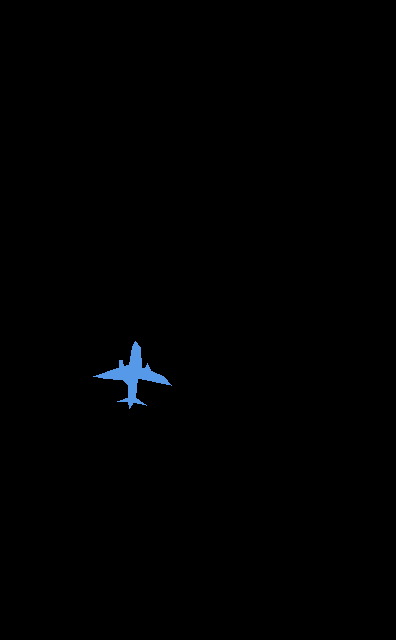Airplane: (93, 341, 171, 408)
